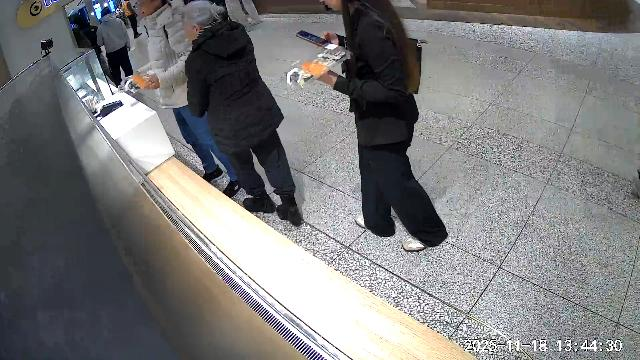sushi-box: (281, 43, 353, 90), (119, 68, 169, 95)
